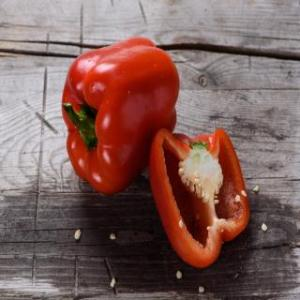bell_pepper: (61, 41, 179, 190)
